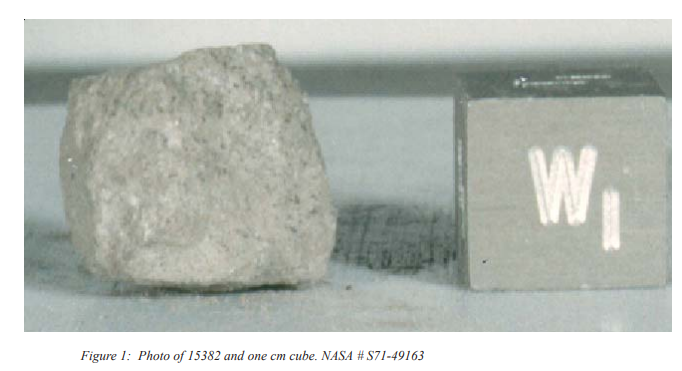Basalt: (65, 47, 343, 284)
